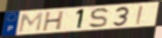1: (73, 8, 86, 30)
3: (112, 5, 131, 27)
H: (41, 10, 66, 32)
I: (135, 5, 144, 26)
M: (17, 12, 45, 33)
S: (88, 7, 110, 29)
